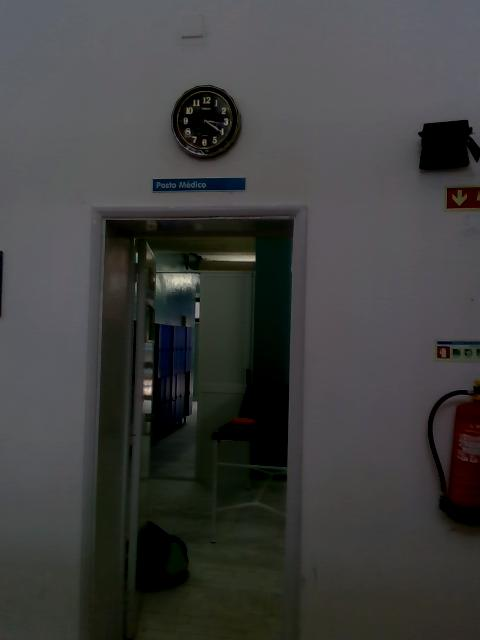open_door: (77, 206, 309, 638)
